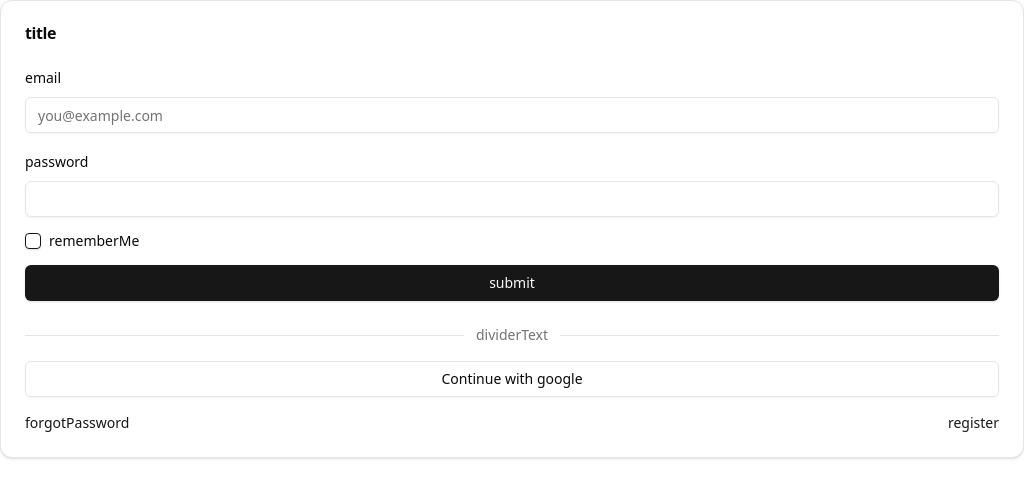
Test case: LoginForm › shows validation error for empty password
Type "user@example.com" into the field labelled "email" at (512, 115), box x1=25 y1=97 x2=999 y2=133
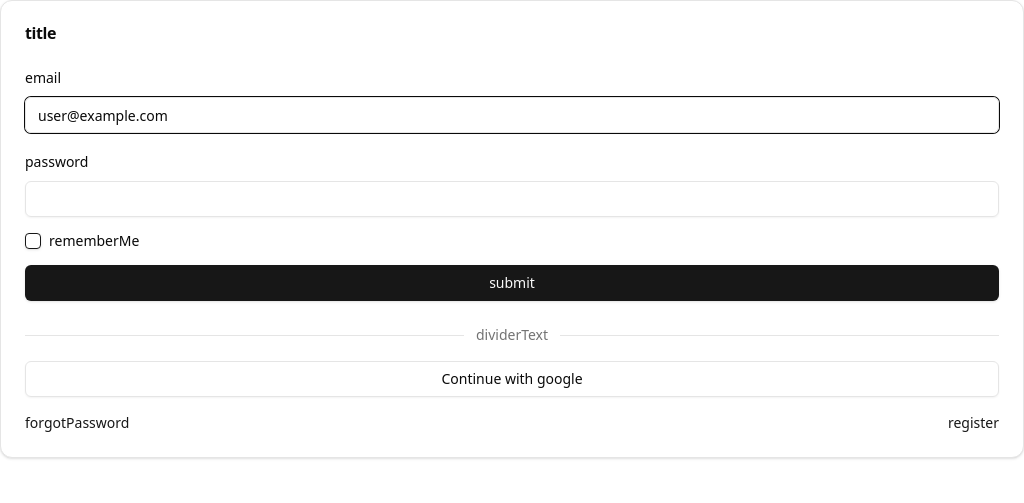
Click the button "submit" at (512, 283), box x1=25 y1=265 x2=999 y2=301
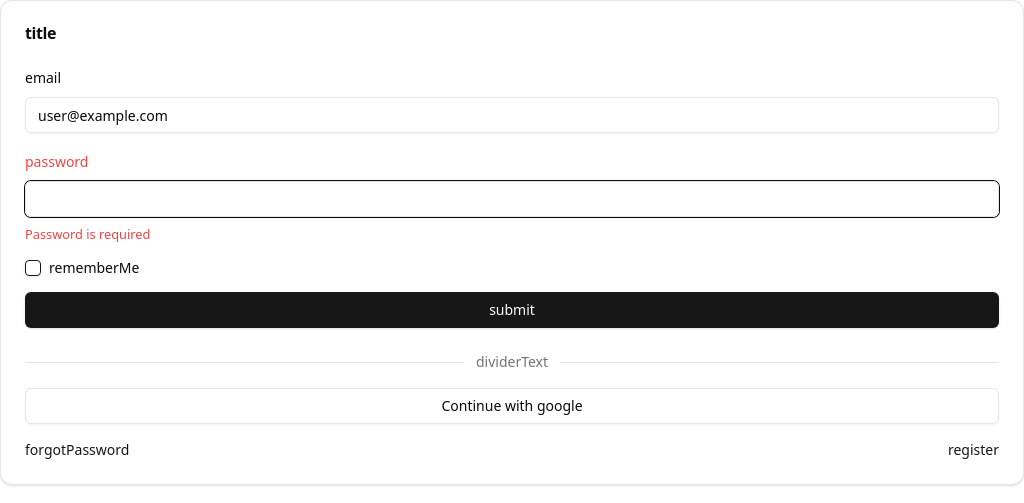
Now the text "Password is required" is shown, box x1=25 y1=225 x2=150 y2=243
